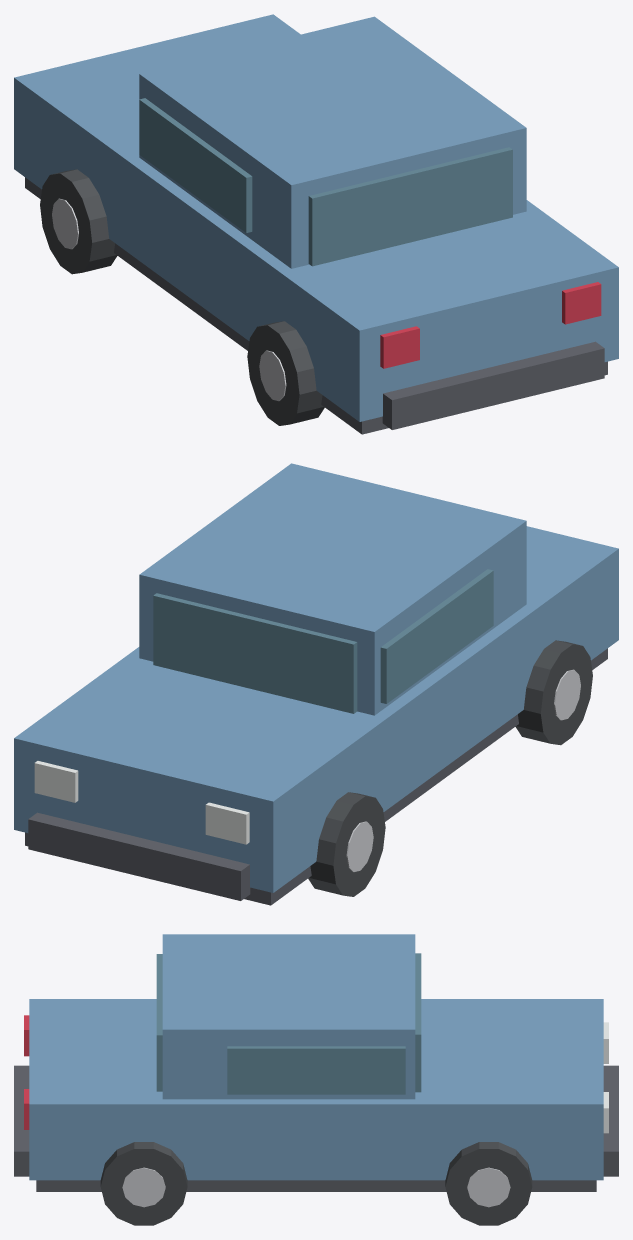
Rendered from fiesta.glb.
3 views of the same model, one above another, from view 1: azimuth 30°, elevation 25°; view 2: azimuth 150°, elevation 25°; view 3: azimuth 270°, elevation 25° (orthographic). The views are drawn at different scales.
Parts seen in each view (by area): view 1: BODY_main, BODY_cabin, WINDOW_rear, BODY_bumper_rear, WINDOW_side_-1, WHEEL_-1_1.191, WHEEL_-1_-1.191, BODY_lower, LIGHT_rear_-1, LIGHT_rear_1, WHEEL_-1_1.191_hub, WHEEL_-1_-1.191_hub; view 2: BODY_main, BODY_cabin, WINDOW_front, BODY_bumper_front, WINDOW_side_-1, WHEEL_-1_-1.191, WHEEL_-1_1.191, BODY_lower, LIGHT_front_-1, LIGHT_front_1, WHEEL_-1_-1.191_hub, WHEEL_-1_1.191_hub; view 3: BODY_main, BODY_cabin, WINDOW_side_1, BODY_lower, WHEEL_1_-1.191, WHEEL_1_1.191, BODY_bumper_front, BODY_bumper_rear, WHEEL_1_-1.191_hub, WHEEL_1_1.191_hub, WINDOW_front, WINDOW_rear.
Part boxes in pixels (left/top/right/bottom): BODY_main: left=14, top=14, right=618, bottom=421; BODY_cabin: left=139, top=16, right=526, bottom=268; WINDOW_rear: left=308, top=147, right=512, bottom=266; BODY_bumper_rear: left=382, top=341, right=604, bottom=429; WINDOW_side_-1: left=139, top=98, right=252, bottom=232; WHEEL_-1_1.191: left=247, top=321, right=324, bottom=425; WHEEL_-1_-1.191: left=40, top=169, right=117, bottom=274; BODY_lower: left=25, top=177, right=607, bottom=434; LIGHT_rear_-1: left=380, top=326, right=419, bottom=368; LIGHT_rear_1: left=562, top=282, right=601, bottom=324; WHEEL_-1_1.191_hub: left=259, top=350, right=286, bottom=401; WHEEL_-1_-1.191_hub: left=52, top=198, right=78, bottom=249; BODY_main: left=14, top=526, right=618, bottom=892; BODY_cabin: left=139, top=463, right=526, bottom=715; WINDOW_front: left=153, top=593, right=357, bottom=713; BODY_bumper_front: left=28, top=812, right=250, bottom=900; WINDOW_side_-1: left=380, top=569, right=493, bottom=703; WHEEL_-1_-1.191: left=308, top=792, right=385, bottom=896; WHEEL_-1_1.191: left=515, top=640, right=592, bottom=745; BODY_lower: left=25, top=648, right=607, bottom=905; LIGHT_front_-1: left=205, top=802, right=249, bottom=844; LIGHT_front_1: left=34, top=761, right=78, bottom=802; WHEEL_-1_-1.191_hub: left=346, top=821, right=373, bottom=871; WHEEL_-1_1.191_hub: left=554, top=669, right=580, bottom=720; BODY_main: left=29, top=999, right=603, bottom=1180; BODY_cabin: left=162, top=934, right=415, bottom=1099; WINDOW_side_1: left=227, top=1046, right=405, bottom=1094; BODY_lower: left=36, top=1180, right=596, bottom=1191; WHEEL_1_-1.191: left=445, top=1142, right=532, bottom=1225; WHEEL_1_1.191: left=100, top=1142, right=187, bottom=1225; BODY_bumper_front: left=603, top=1065, right=618, bottom=1176; BODY_bumper_rear: left=14, top=1065, right=29, bottom=1176; WHEEL_1_-1.191_hub: left=467, top=1167, right=510, bottom=1207; WHEEL_1_1.191_hub: left=122, top=1167, right=165, bottom=1207; WINDOW_front: left=415, top=953, right=421, bottom=1092; WINDOW_rear: left=156, top=954, right=162, bottom=1091.
Size of the model in its own units: 1.96 by 1.4 by 4.18.
